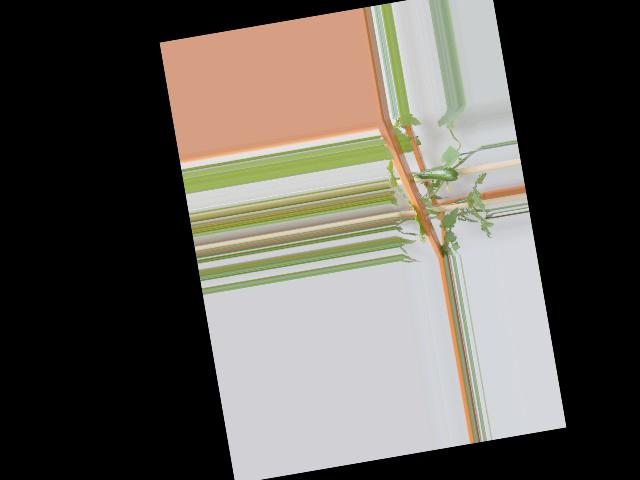cucumber: (418, 163, 462, 186)
